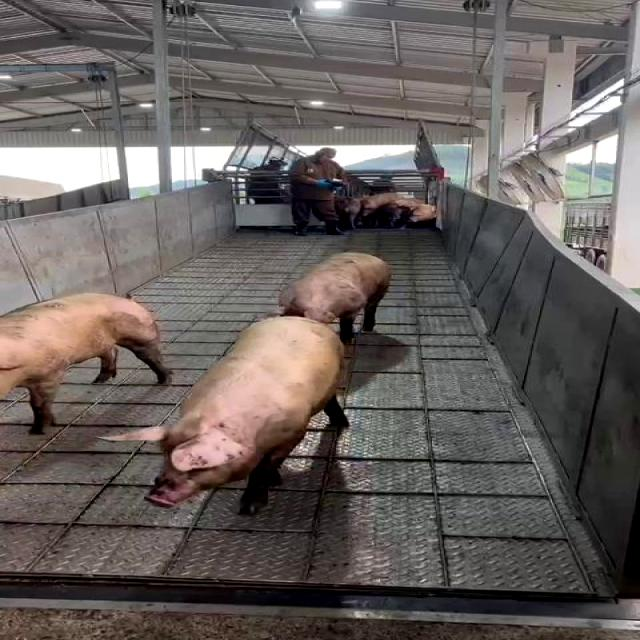pig: (103, 316, 348, 513), (104, 317, 347, 512), (1, 294, 170, 432), (279, 253, 391, 341)
